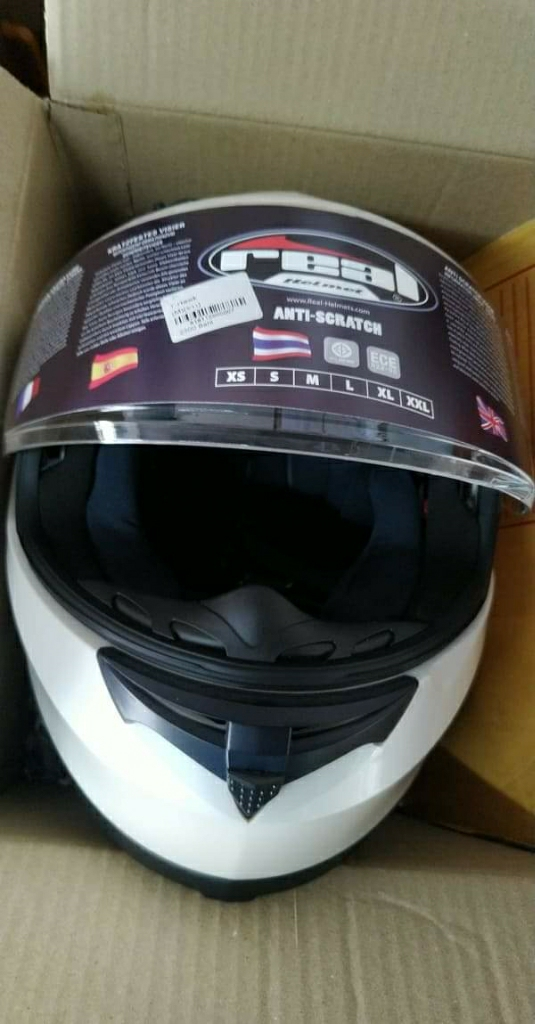helmet: (1, 192, 497, 884)
